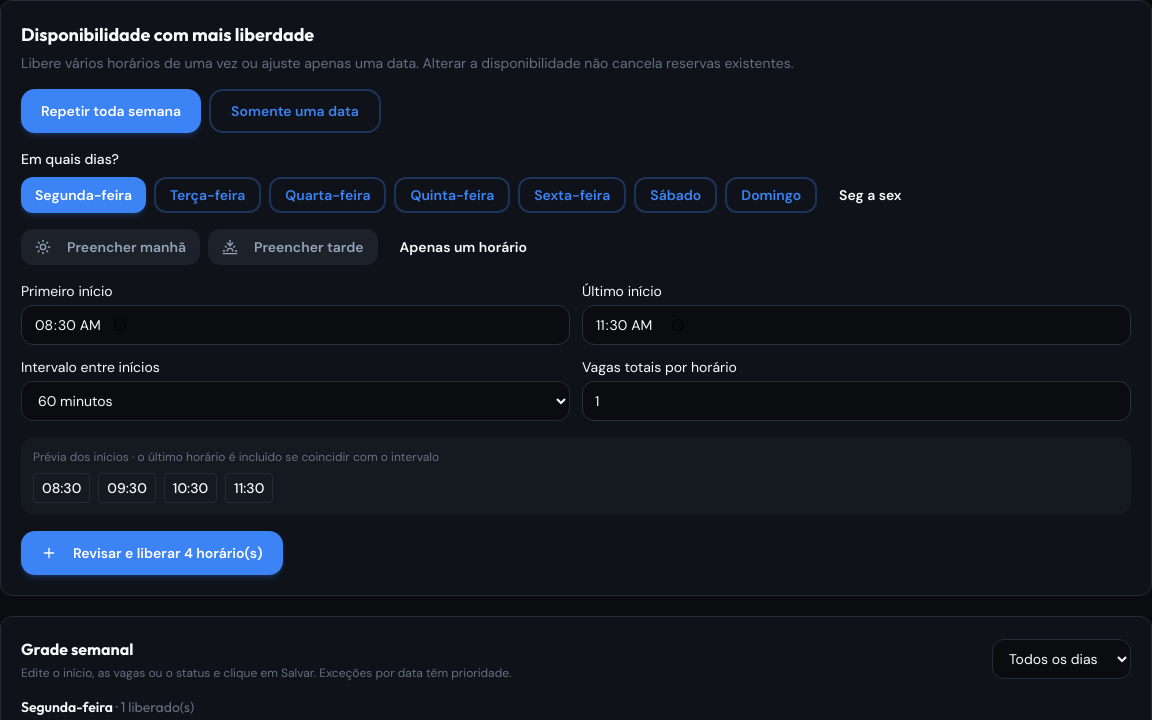
Test: reviews a batch for multiple weekdays and only writes after confirmation
The image size is (1152, 720).
Later steps or results of the test are not shown.
Click the button "Terça-feira" at [208, 195], box [154, 177, 261, 213]
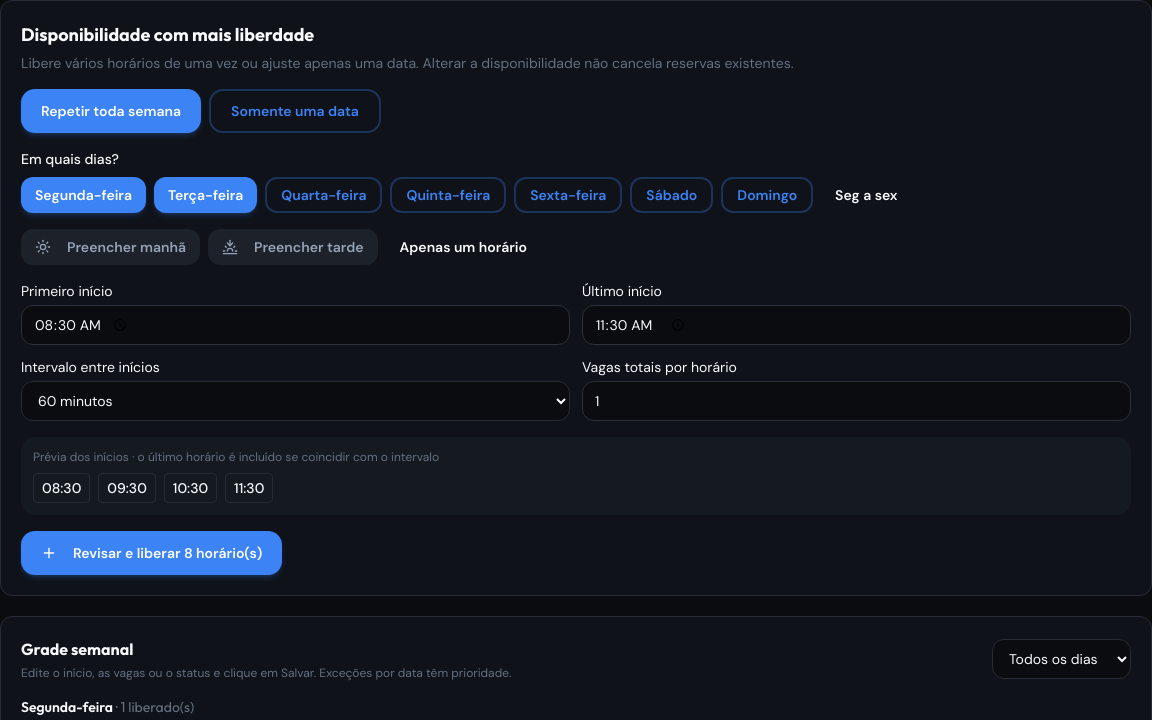
Click the button "Revisar e liberar 8 horário(s)" at [152, 553], box [21, 531, 282, 575]
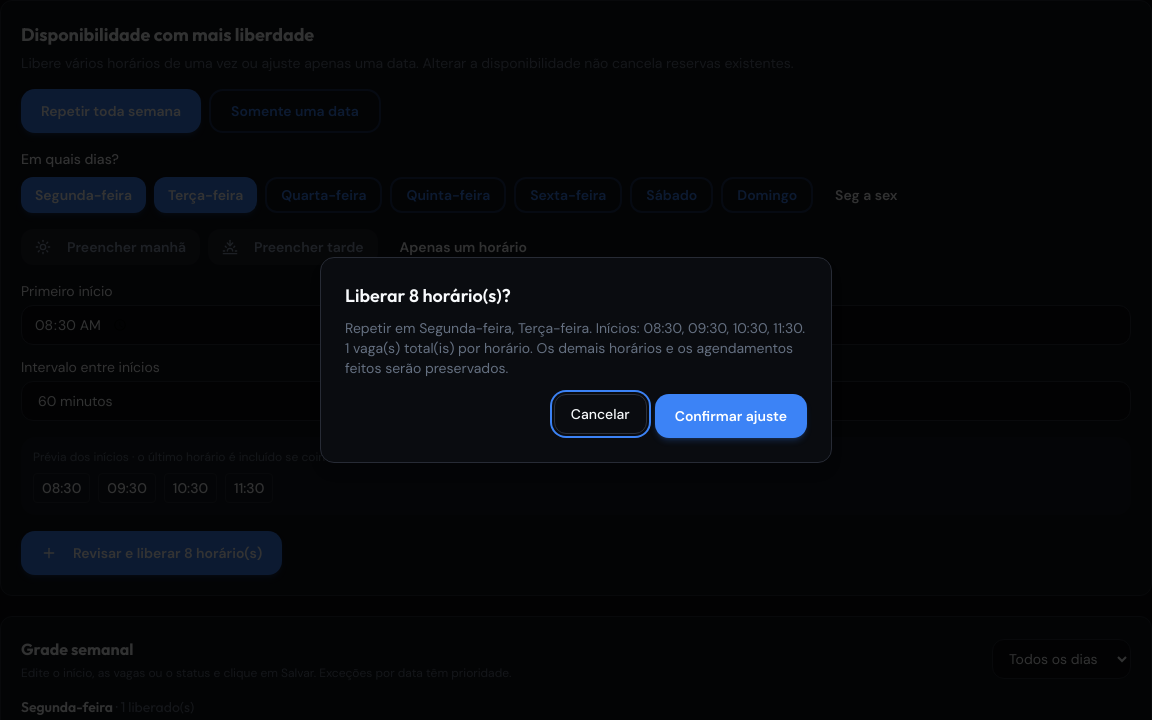
Expected: the dialog shows "Segunda-feira, Terça-feira", [345, 319, 805, 377]
